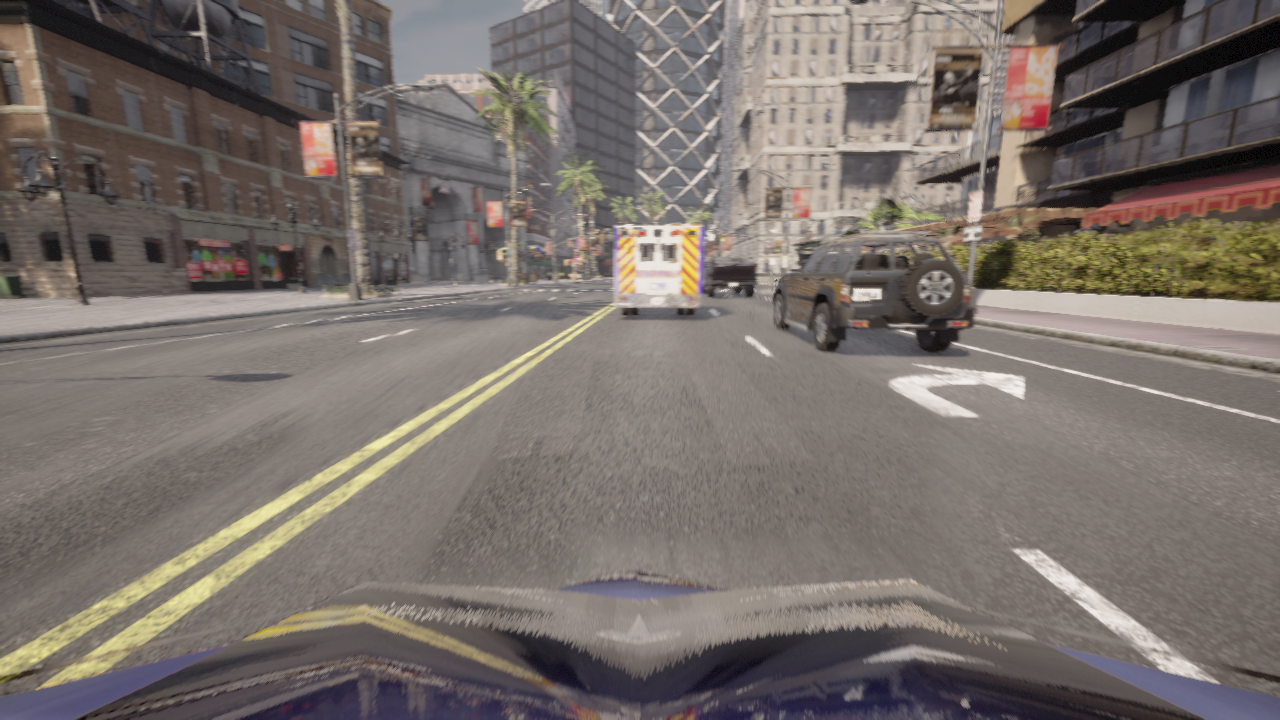cyclist: (0, 569, 1279, 719), (771, 232, 974, 352), (614, 224, 702, 315), (701, 257, 756, 297), (755, 278, 756, 286)
